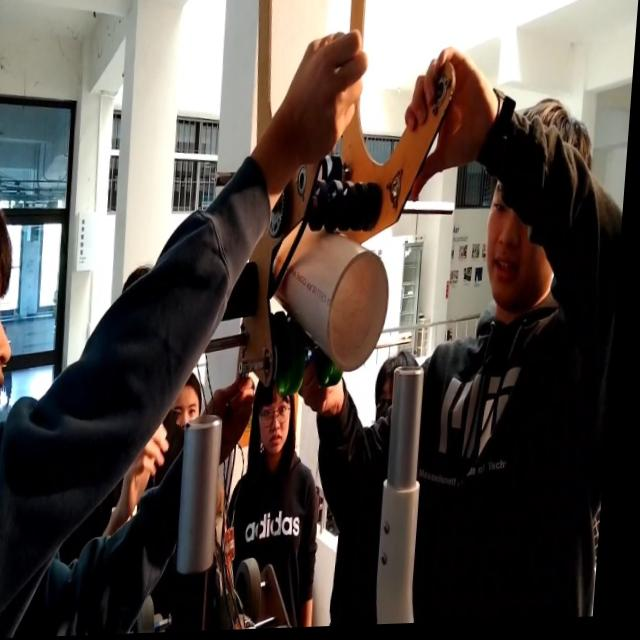CORAL: (269, 209, 397, 373)
